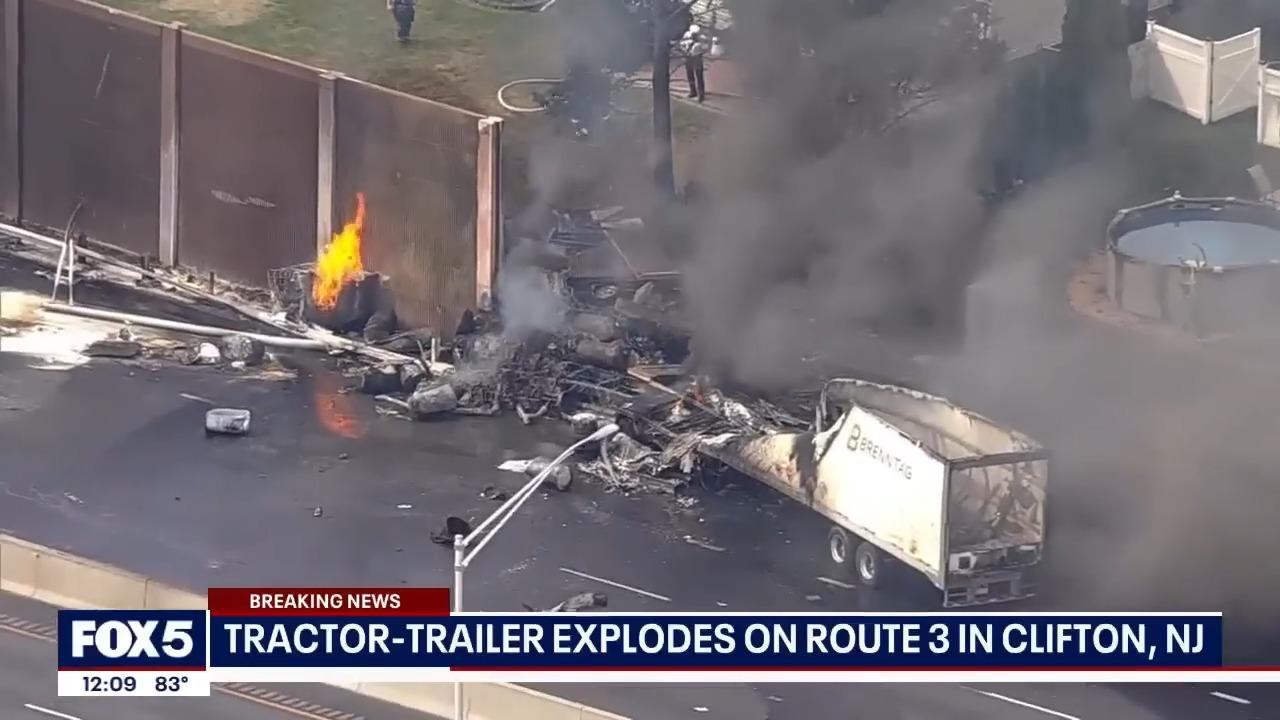fire: (297, 185, 378, 318)
